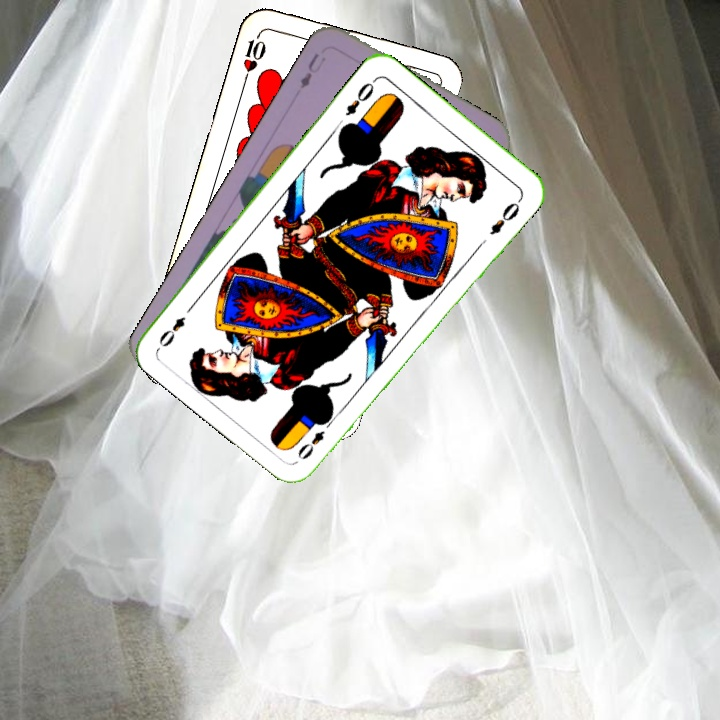EO: (341, 75, 379, 119), (293, 426, 328, 462)
EU: (296, 49, 329, 92)
H10: (239, 27, 269, 84)
